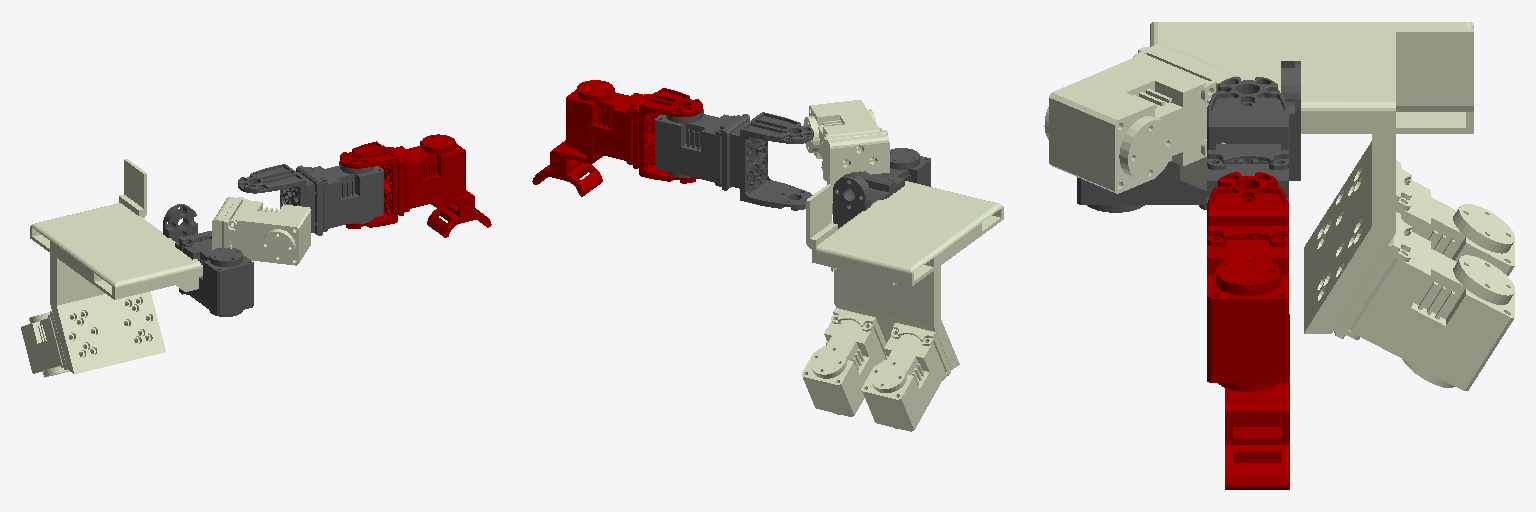
robot.urdf — gx11:
<?xml version="1.0" encoding="utf-8"?>
<!-- This URDF was automatically created by SolidWorks to URDF Exporter! Originally created by [author] ([email redacted]) 
     Commit Version: 1.6.0-4-g7f85cfe  Build Version: 1.6.7995.38578
     For more information, please see http://wiki.ros.org/sw_urdf_exporter -->
<robot
  name="gx11">
  <link
    name="base_link">
    <inertial>
      <origin
        xyz="0.000312033105377504 0.0559188374133813 -0.000555350477604549"
        rpy="0 0 0" />
      <mass
        value="0.160797512292559" />
      <inertia
        ixx="0.000100702955176406"
        ixy="-1.15922066014657E-05"
        ixz="1.12484051538739E-06"
        iyy="0.000107853474383833"
        iyz="-2.8581846249075E-06"
        izz="0.000188218606855103" />
    </inertial>
    <visual>
      <origin
        xyz="0 0 0"
        rpy="0 0 0" />
      <geometry>
        <mesh
          filename="../meshes/base_link.STL" />
      </geometry>
      <material name="gray">
        <color rgba="0.885 0.915 0.8 1"/>
      </material>
    </visual>
    <collision>
      <origin
        xyz="0 0 0"
        rpy="0 0 0" />
      <geometry>
        <mesh
          filename="../meshes/base_link.STL" />
      </geometry>
    </collision>
  </link>
  <link
    name="Link1">
    <inertial>
      <origin
        xyz="0.0255941711782224 0.000241258010955838 0.010493897443027"
        rpy="0 0 0" />
      <mass
        value="0.0204594242505954" />
      <inertia
        ixx="1.64761094304357E-06"
        ixy="1.1727883663051E-08"
        ixz="-7.63721252771507E-09"
        iyy="3.14103768519526E-06"
        iyz="-8.32099308750898E-23"
        izz="3.81122646460053E-06" />
    </inertial>
    <visual>
      <origin
        xyz="0 0 0"
        rpy="0 0 0" />
      <geometry>
        <mesh
          filename="../meshes/Link1.STL" />
      </geometry>
      <material name="gray">
        <color rgba="0.4 0.4 0.4 1"/>
      </material>
    </visual>
    <collision>
      <origin
        xyz="0 0 0"
        rpy="0 0 0" />
      <geometry>
        <mesh
          filename="../meshes/Link1.STL" />
      </geometry>
    </collision>
  </link>
  <joint
    name="joint1"
    type="revolute">
    <origin
      xyz="0.0309007440278484 0.0305 0.0058732274974783"
      rpy="1.5707963267949 0 0" />
    <parent
      link="base_link" />
    <child
      link="Link1" />
    <axis
      xyz="0 0 1" />
    <limit
      lower="0"
      upper="2.1"
      effort="10"
      velocity="6.2" />
  </joint>
  <link
    name="Link2">
    <inertial>
      <origin
        xyz="0.0407682617952134 4.4127895781898E-14 0.000223487714582398"
        rpy="0 0 0" />
      <mass
        value="0.0220862252142514" />
      <inertia
        ixx="2.25047371705653E-06"
        ixy="3.28488887357354E-18"
        ixz="1.17278836282494E-08"
        iyy="3.34626288327582E-06"
        iyz="9.07874054918504E-18"
        izz="2.44821512682901E-06" />
    </inertial>
    <visual>
      <origin
        xyz="0 0 0"
        rpy="0 0 0" />
      <geometry>
        <mesh
          filename="../meshes/Link2.STL" />
      </geometry>
      <material name="gray">
        <color rgba="0.4 0.4 0.4 1"/>
      </material>
    </visual>
    <collision>
      <origin
        xyz="0 0 0"
        rpy="0 0 0" />
      <geometry>
        <mesh
          filename="../meshes/Link2.STL" />
      </geometry>
    </collision>
  </link>
  <joint
    name="joint2"
    type="revolute">
    <origin
      xyz="0.0344999999999999 0 0.013"
      rpy="-1.5707963267949 0 0" />
    <parent
      link="Link1" />
    <child
      link="Link2" />
    <axis
      xyz="0 0 1" />
    <limit
      lower="-0.25"
      upper="1.7"
      effort="10"
      velocity="6.2" />
  </joint>
  <link
    name="Link3">
    <inertial>
      <origin
        xyz="0.00407809774758189 -6.65938561447699E-08 -1.04083408558608E-17"
        rpy="0 0 0" />
      <mass
        value="0.00125017090070063" />
      <inertia
        ixx="2.40014433117899E-08"
        ixy="7.97359704179151E-13"
        ixz="1.75775880167518E-24"
        iyy="4.71463082785401E-08"
        iyz="1.31561299280712E-23"
        izz="7.01339739927326E-08" />
    </inertial>
    <visual>
      <origin
        xyz="0 0 0"
        rpy="0 0 0" />
      <geometry>
        <mesh
          filename="../meshes/Link3.STL" />
      </geometry>
      <material name="red">
        <color rgba="0.7 0.0 0.0 1"/>
      </material>
    </visual>
    <collision>
      <origin
        xyz="0 0 0"
        rpy="0 0 0" />
      <geometry>
        <mesh
          filename="../meshes/Link3.STL" />
      </geometry>
    </collision>
  </link>
  <joint
    name="joint3"
    type="revolute">
    <origin
      xyz="0.0555000000000001 0 0"
      rpy="0 0 0" />
    <parent
      link="Link2" />
    <child
      link="Link3" />
    <axis
      xyz="0 0 1" />
    <limit
      lower="-0.25"
      upper="1.7"
      effort="10"
      velocity="6.2" />
  </joint>
  <link
    name="Link12">
    <inertial>
      <origin
        xyz="8.1335402813288E-05 -0.00166486750766669 -0.025558003708793"
        rpy="0 0 0" />
      <mass
        value="0.0164248371643224" />
      <inertia
        ixx="2.3508821939384E-06"
        ixy="-3.86158209085121E-11"
        ixz="1.52775496068753E-10"
        iyy="3.00563965204244E-06"
        iyz="3.51792921801991E-08"
        izz="1.31382958537141E-06" />
    </inertial>
    <visual>
      <origin
        xyz="0 0 0"
        rpy="0 0 0" />
      <geometry>
        <mesh
          filename="../meshes/Link12.STL" />
      </geometry>
      <material name="red">
        <color rgba="0.7 0.0 0.0 1"/>
      </material>
    </visual>
    <collision>
      <origin
        xyz="0 0 0"
        rpy="0 0 0" />
      <geometry>
        <mesh
          filename="../meshes/Link12.STL" />
      </geometry>
    </collision>
  </link>
  <joint
    name="joint12"
    type="fixed">
    <origin
      xyz="0.0570187350990352 0.00231569753250521 8.14092925386471E-05"
      rpy="0 1.5707963267949 0" />
    <parent
      link="Link3" />
    <child
      link="Link12" />
    <axis
      xyz="0 0 0" />
    <limit
      lower="-1"
      upper="1"
      effort="0"
      velocity="0" />
  </joint>
  
</robot>

--- Render facts (derived) ---
Views: 3 orthographic renders of the robot side by side, from view 1: azimuth 30°, elevation 25°; view 2: azimuth 150°, elevation 25°; view 3: azimuth 270°, elevation 25°.
Robot: gx11 — 5 links, 4 joints (3 revolute, 1 fixed); root link base_link; default pose: every joint at zero.
Visible links, largest first — view 1: base_link, Link3, Link2, Link1, Link12; view 2: base_link, Link2, Link3, Link1, Link12; view 3: base_link, Link3, Link2, Link12, Link1.
Boxes of the visible links, <box> form: base_link: <box>21,159,310,377</box>; Link3: <box>340,134,465,228</box>; Link2: <box>238,161,383,235</box>; Link1: <box>163,204,253,316</box>; Link12: <box>427,190,491,237</box>; base_link: <box>801,100,1003,431</box>; Link2: <box>655,109,813,210</box>; Link3: <box>566,80,702,183</box>; Link1: <box>833,148,930,228</box>; Link12: <box>532,111,603,196</box>; base_link: <box>1044,22,1514,390</box>; Link3: <box>1207,172,1288,391</box>; Link2: <box>1207,77,1288,202</box>; Link12: <box>1225,314,1289,489</box>; Link1: <box>1077,61,1300,212</box>.
Bounding box of the posed robot: 0.2159 × 0.1157 × 0.1032 m (x, y, z).
Meshes: 5 distinct files referenced, 5 mesh visuals loaded (5 binary STL).